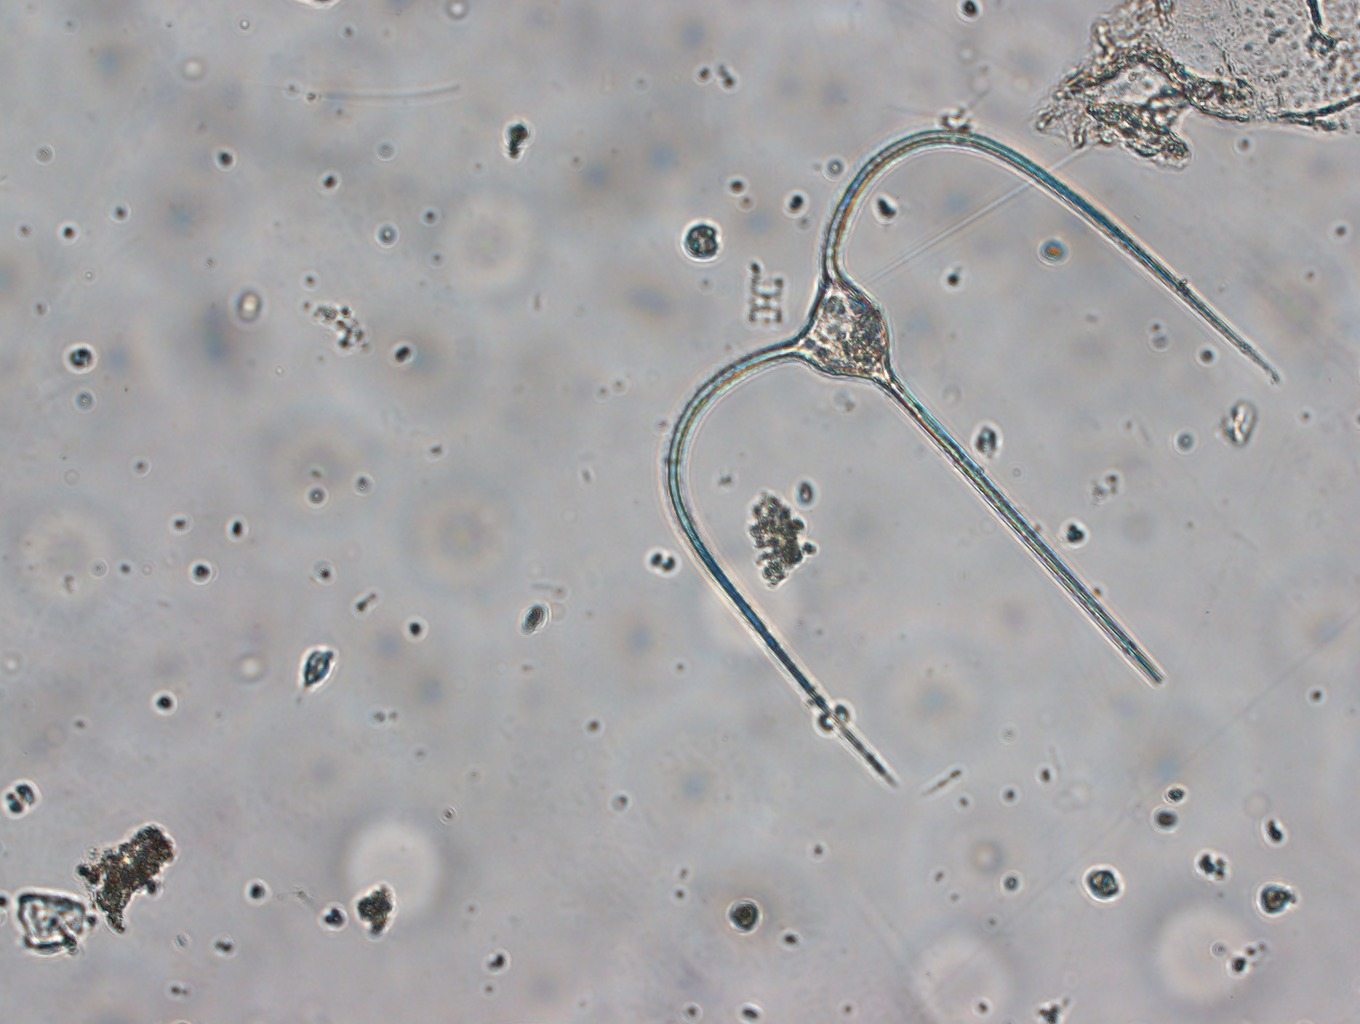ceratium trichoceros: (658, 130, 1294, 791)
